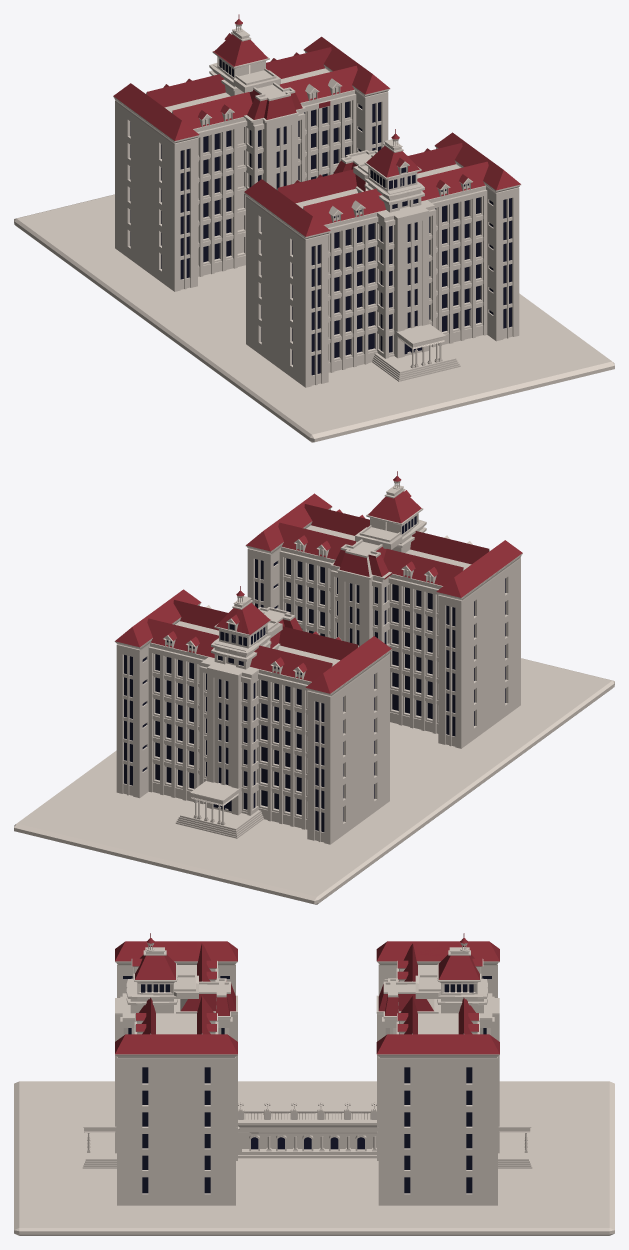
The model's file is MSM_Buildings.fbx.
The picture shows the model from 3 angles, top to bottom: view 1: azimuth 30°, elevation 25°; view 2: azimuth 150°, elevation 25°; view 3: azimuth 270°, elevation 25°; orthographic projection.
Visible parts, largest first — view 1: 0Build, 3Base; view 2: 0Build, 3Base; view 3: 0Build, 3Base, CORRIDOR.006, 1Joint, CORRIDOR.001, CORRIDOR.008.
Boxes of the visible parts, bbox=[...] form: 0Build: bbox=[113, 14, 521, 387]; 3Base: bbox=[14, 194, 614, 442]; 0Build: bbox=[114, 471, 522, 844]; 3Base: bbox=[14, 658, 614, 904]; 0Build: bbox=[82, 933, 532, 1205]; 3Base: bbox=[14, 1081, 614, 1235]; CORRIDOR.006: bbox=[238, 1108, 376, 1158]; 1Joint: bbox=[238, 1102, 376, 1119]; CORRIDOR.001: bbox=[249, 1135, 366, 1151]; CORRIDOR.008: bbox=[251, 1137, 364, 1149].
Size of the model in its own units: 7967 by 5724 by 13612.
